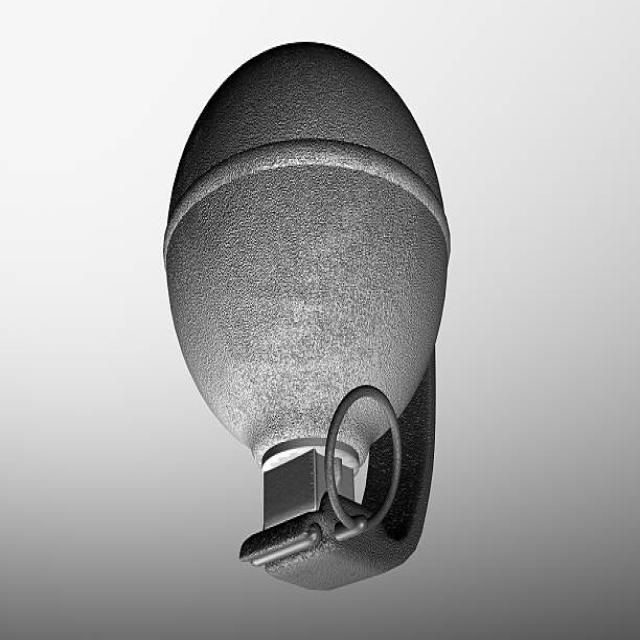grenade: (161, 39, 461, 594)
